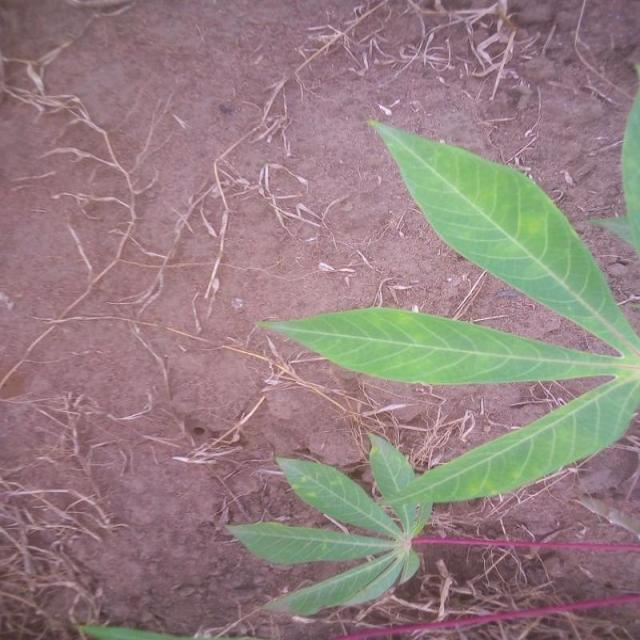cassava leaf: (225, 114, 638, 618), (366, 116, 638, 360), (254, 304, 632, 386)
